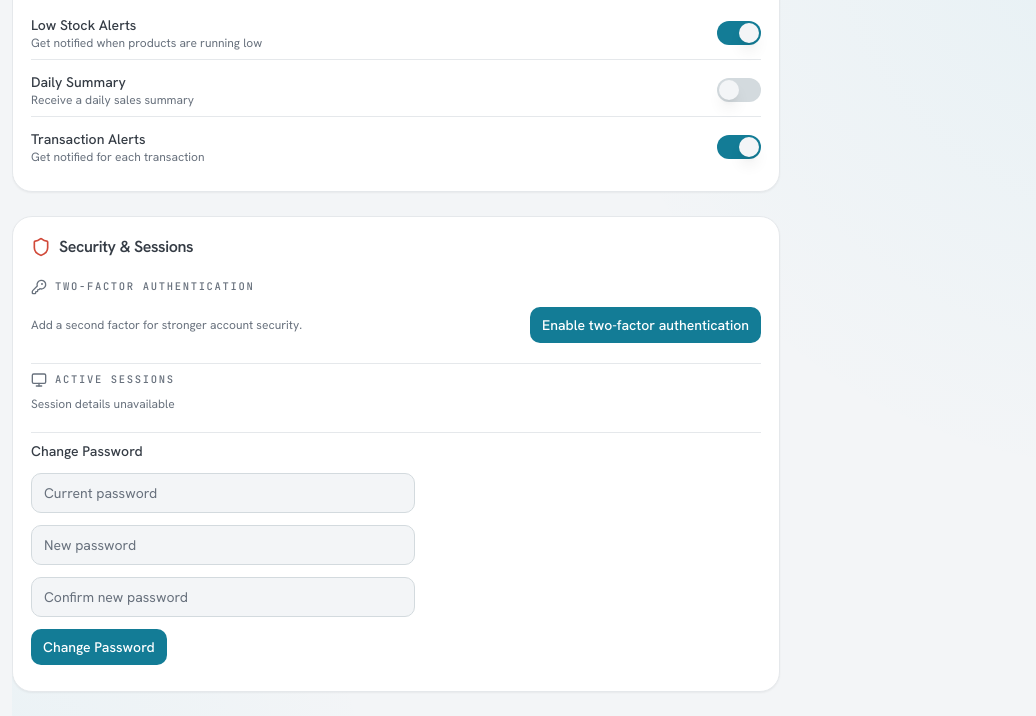
Test: UserProfile change-password control › posts the current + new password to the local change-password endpoint
(page scrolled)
Type "OldPass123" into the password field with placeholder "Current password". click: (223, 492)
box: x1=31 y1=472 x2=415 y2=512
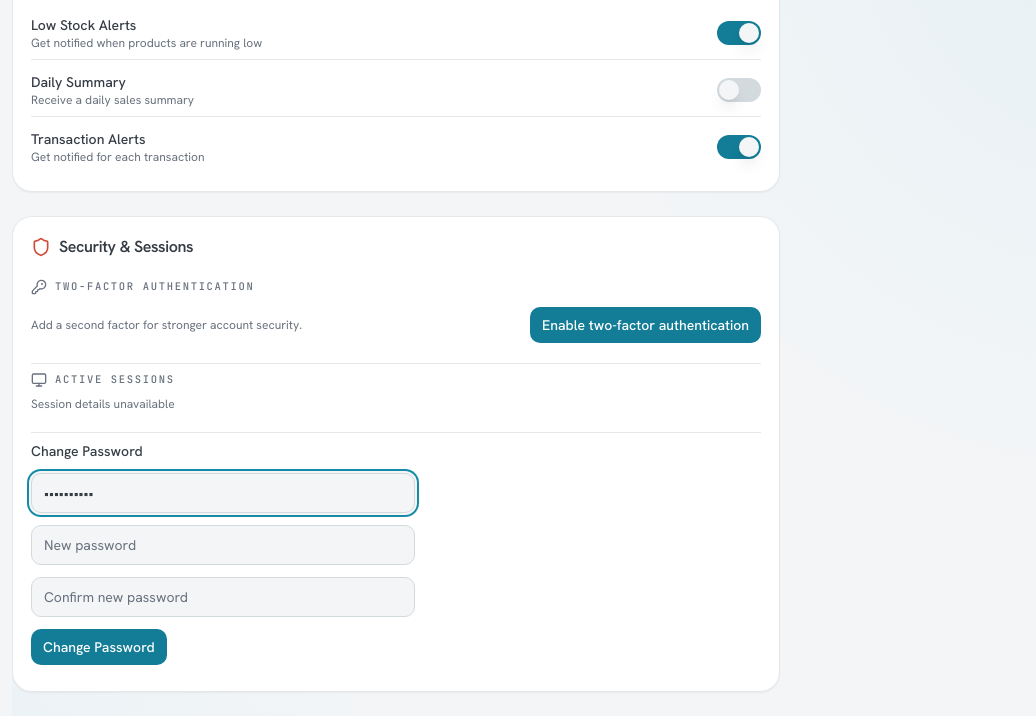
Type "NewPass123" into the password field with placeholder "New password". click: (223, 544)
box: x1=31 y1=524 x2=415 y2=564
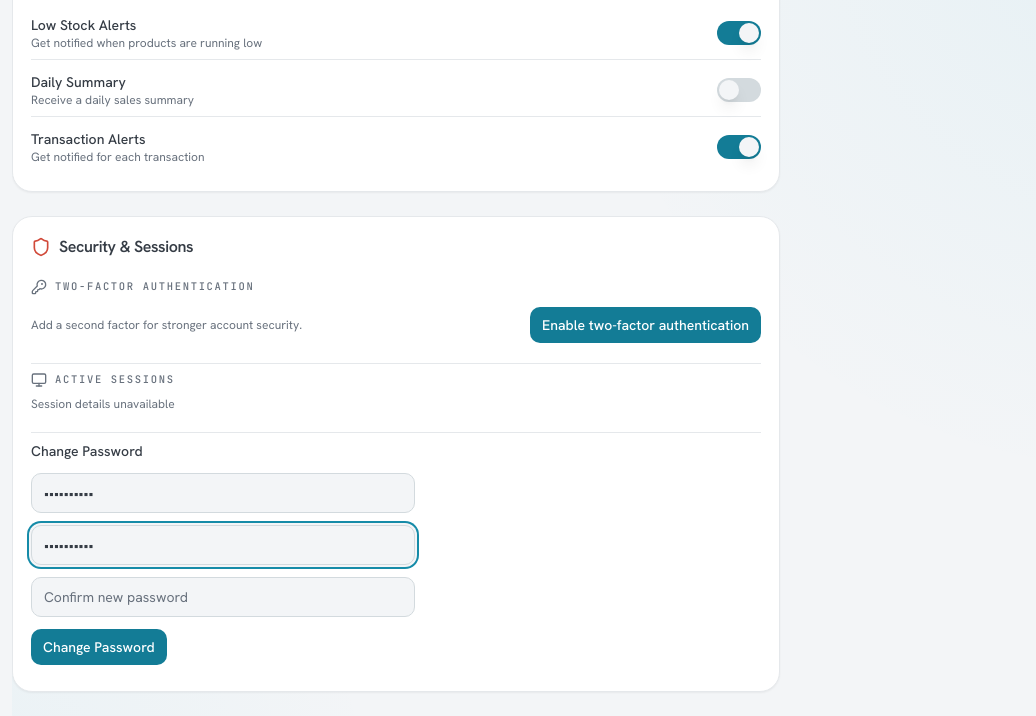
Type "NewPass123" into the password field with placeholder "Confirm new password". click: (223, 596)
box: x1=31 y1=576 x2=415 y2=616
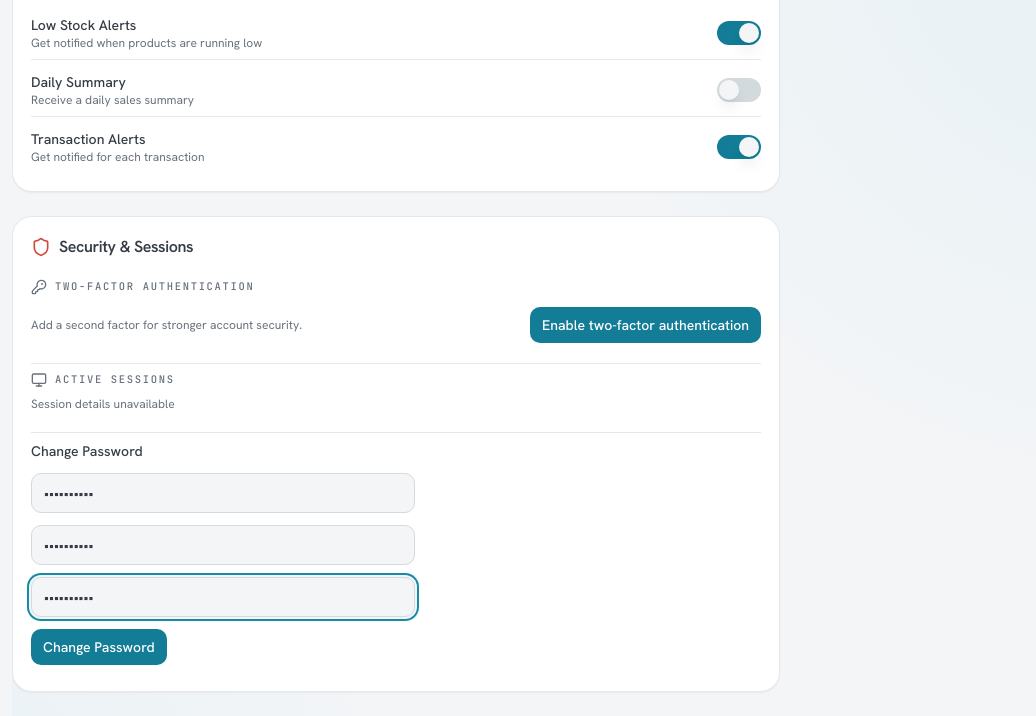
Click the button "Change Password". click: (99, 646)
box: x1=31 y1=628 x2=167 y2=664
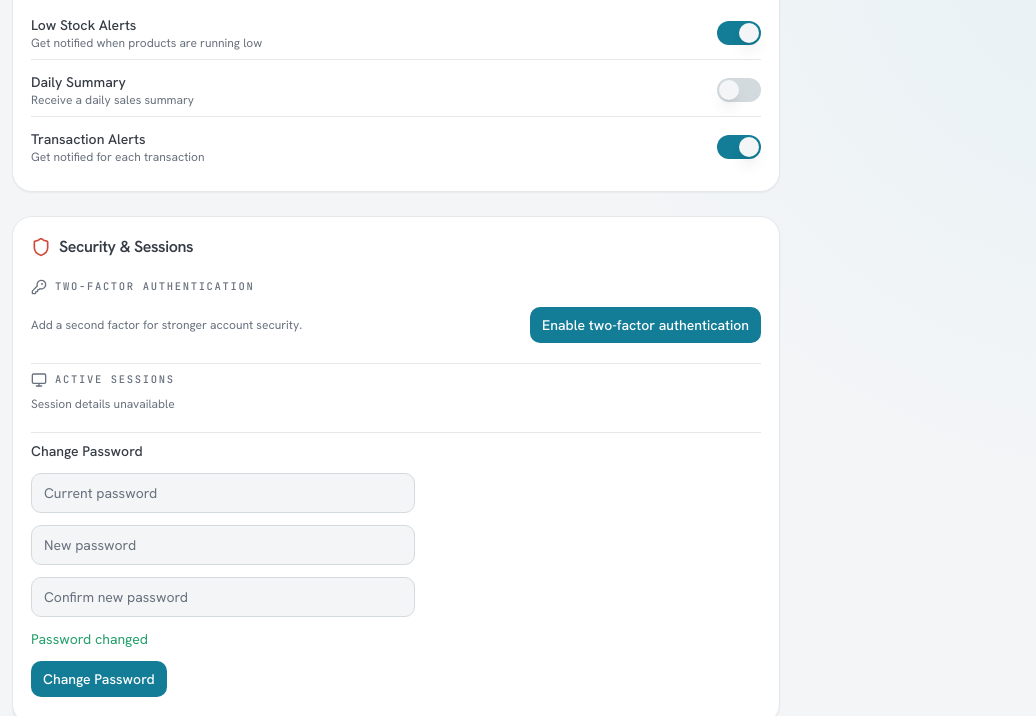
Now the text "Password changed" is shown, box x1=31 y1=630 x2=148 y2=648
